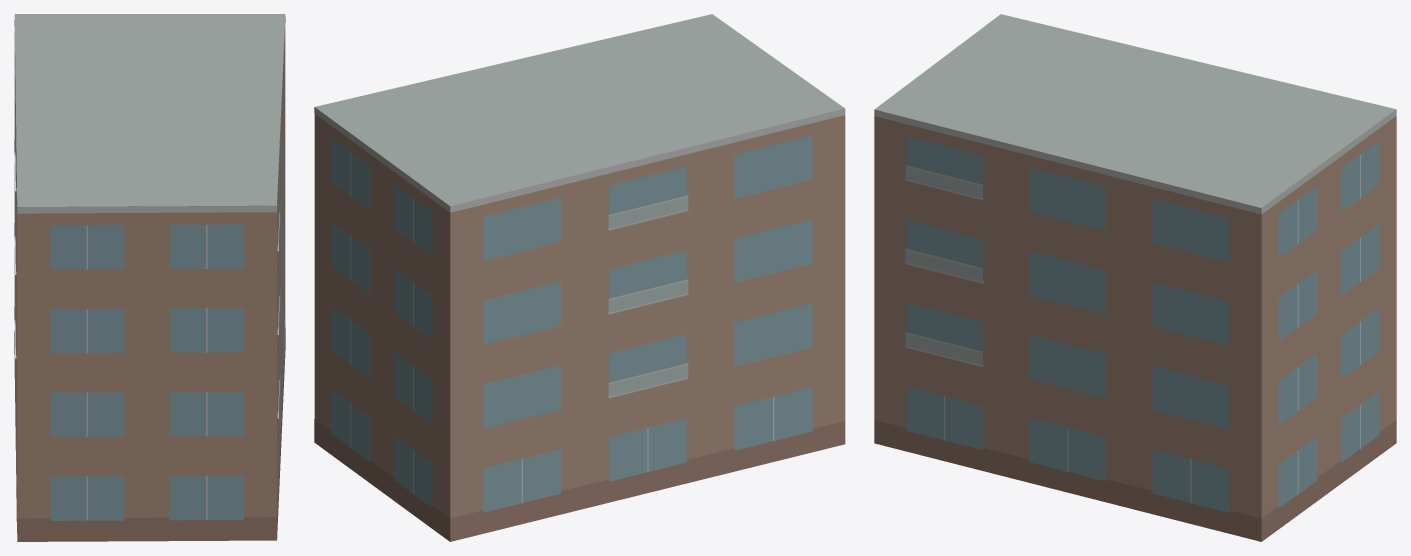
The model's file is survey-upis-32877627.glb.
3 views of the same model, side by side, from view 1: azimuth 30°, elevation 25°; view 2: azimuth 150°, elevation 25°; view 3: azimuth 270°, elevation 25° (orthographic).
Visible parts, largest first — view 1: survey-upis-32877627.tmp; view 2: survey-upis-32877627.tmp; view 3: survey-upis-32877627.tmp.
Part boxes in pixels (x1=…): survey-upis-32877627.tmp: x1=14, y1=14, x2=285, y2=541; survey-upis-32877627.tmp: x1=314, y1=14, x2=845, y2=541; survey-upis-32877627.tmp: x1=874, y1=14, x2=1396, y2=541.
Bounding box in the file's own units: 15.59 × 12.5 × 17.73.
